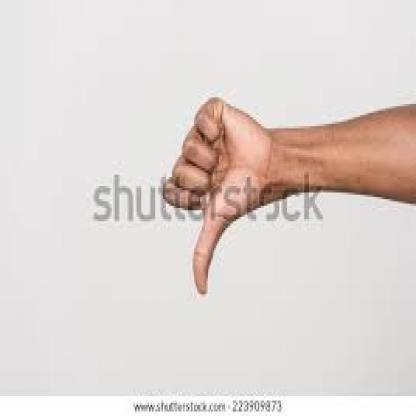thumb_down: (161, 91, 267, 297)
